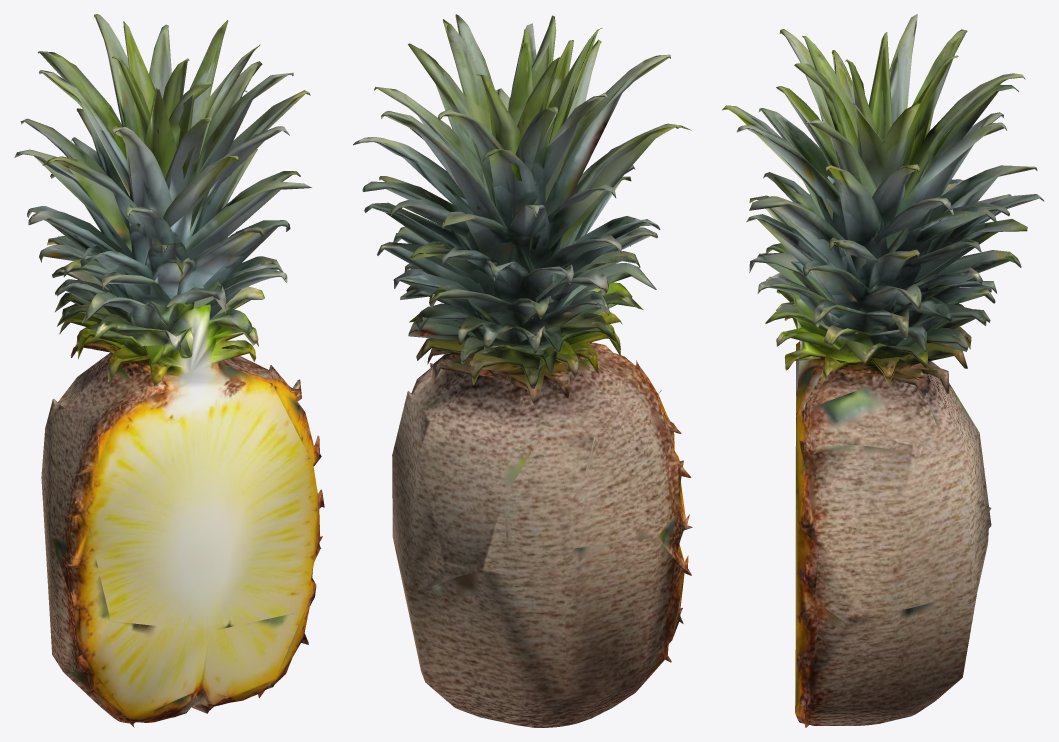
File: f-pineapple-wedge.glb
3 views of the same model, side by side, from view 1: azimuth 30°, elevation 25°; view 2: azimuth 150°, elevation 25°; view 3: azimuth 270°, elevation 25° (orthographic). The views are drawn at different scales.
Visible parts, largest first — view 1: node_0; view 2: node_0; view 3: node_0.
Boxes of the visible parts, bbox=[...] form: node_0: bbox=[14, 14, 324, 727]; node_0: bbox=[353, 14, 692, 727]; node_0: bbox=[722, 14, 1044, 727].
Bounding box in the file's own units: 0.5093 × 1.16 × 0.5233.
Materials: 1 (1 with a texture image).
